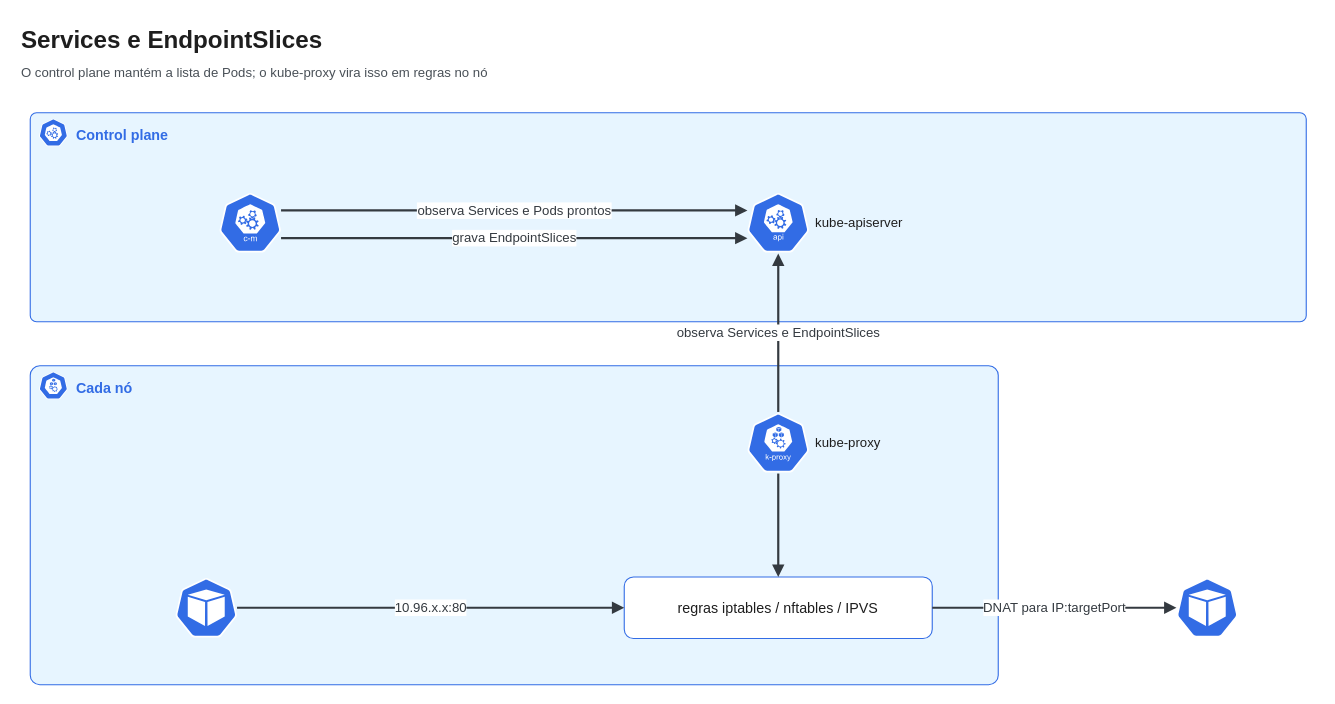
Image size: 1335x704. Some labels were removed from this diagram. The shapes that lost their labels are listed below. From the top down, each one's centre as x and y in pixels, then its label:
point (249, 222): EndpointSlice controller no kube-controller-manager
point (205, 607): Pod cliente
point (1206, 607): Pod do Service
